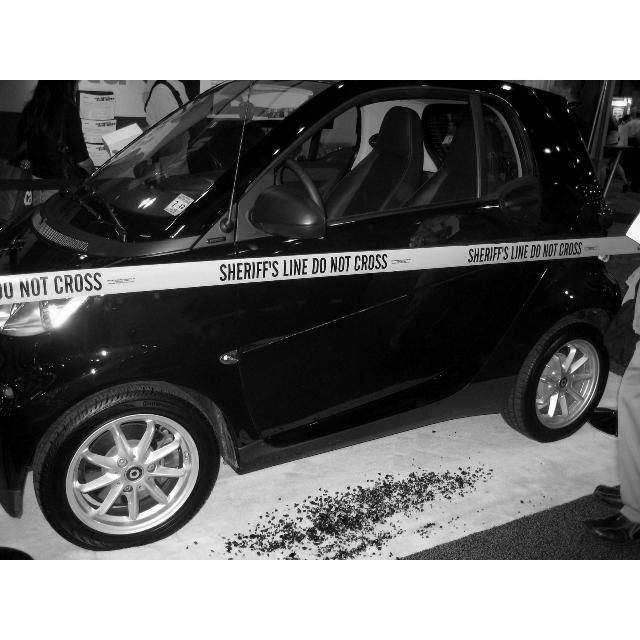doorouter-dent: (387, 212, 514, 370)
